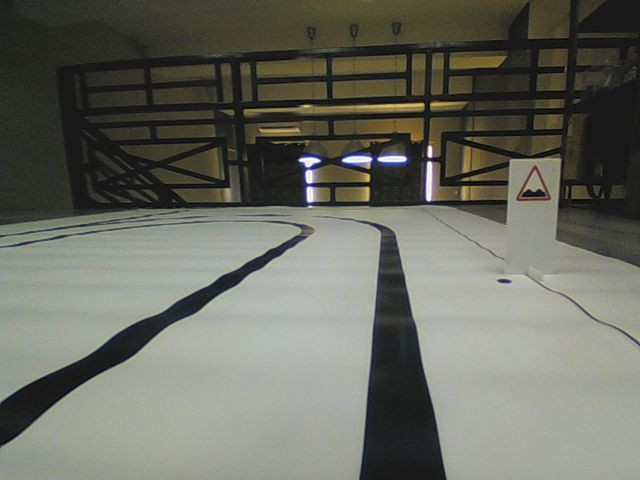Nerov: (515, 163, 552, 202)
